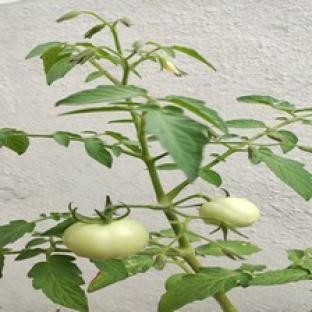Tomato: (63, 218, 149, 259), (200, 197, 260, 227)
